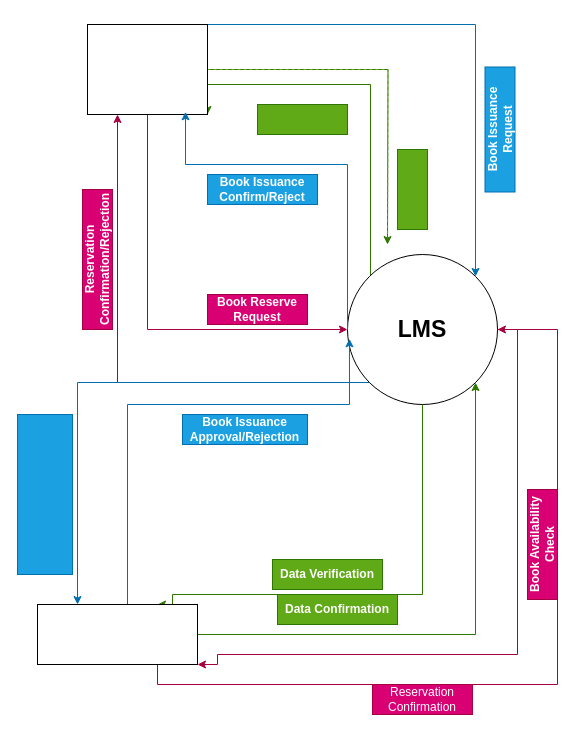
Image size: 583x732. Some labels were removed from this diagram. Each missing label, with the box of its shape:
Book Availability & Member Verification Request: (16, 414, 72, 574)
Librarian: (36, 604, 198, 664)
Member: (86, 24, 208, 114)
Member Reistration: (396, 148, 428, 230)
Registration Confirmed: (256, 104, 348, 134)
